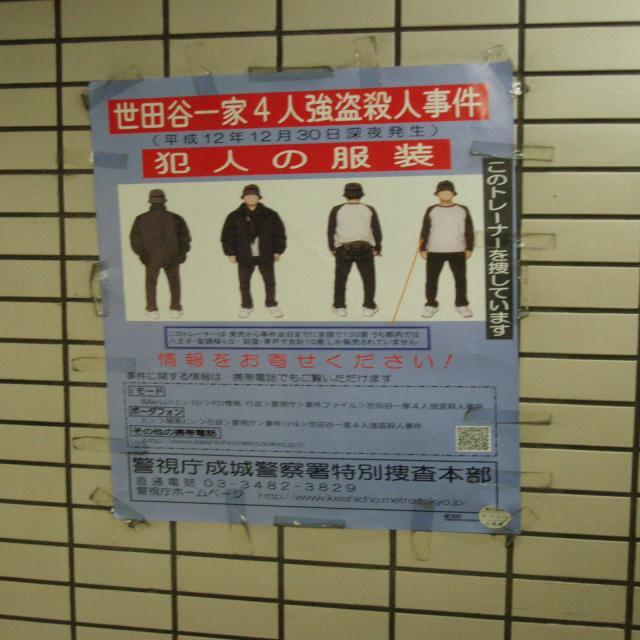qr-code: (458, 428, 490, 450)
